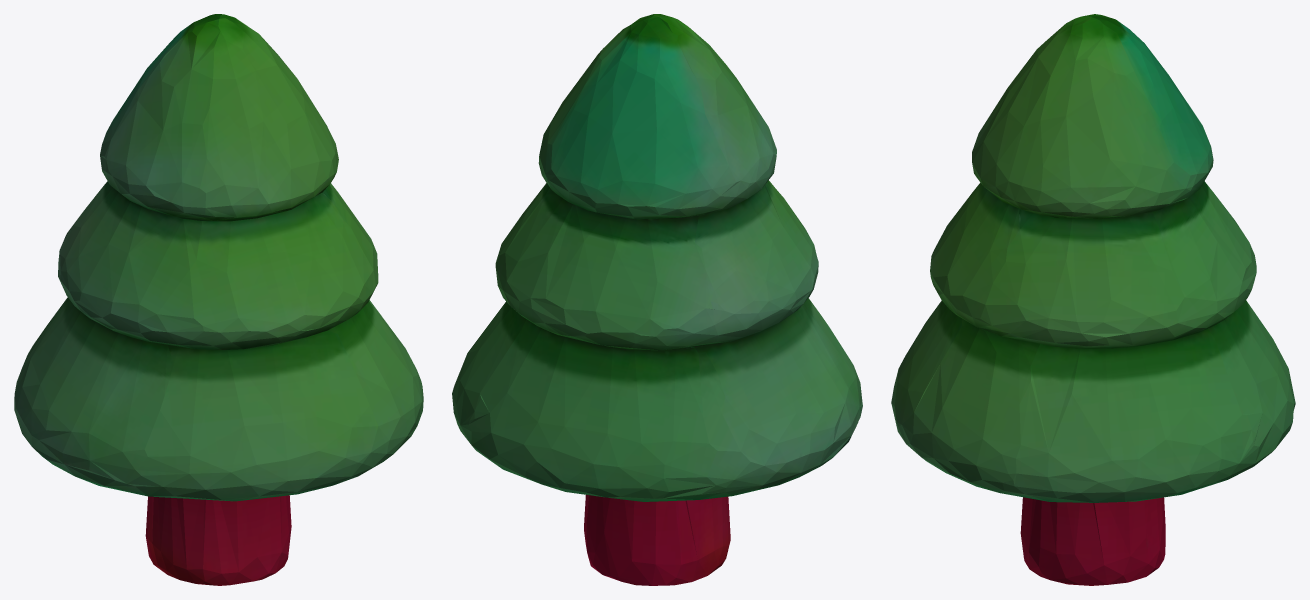
Rendered from tree_pine.glb.
3 views of the same model, side by side, from view 1: azimuth 30°, elevation 25°; view 2: azimuth 150°, elevation 25°; view 3: azimuth 270°, elevation 25° (orthographic).
Parts seen in each view (by area): view 1: tmpaxooj1bw.ply; view 2: tmpaxooj1bw.ply; view 3: tmpaxooj1bw.ply.
Boxes of the visible parts, box(x1,y1,x2,y2) form: tmpaxooj1bw.ply: box(14, 14, 423, 585); tmpaxooj1bw.ply: box(452, 14, 862, 585); tmpaxooj1bw.ply: box(891, 14, 1295, 585).
Size of the model in its own units: 1.37 by 1.99 by 1.35.
1 material, 1 textured.
